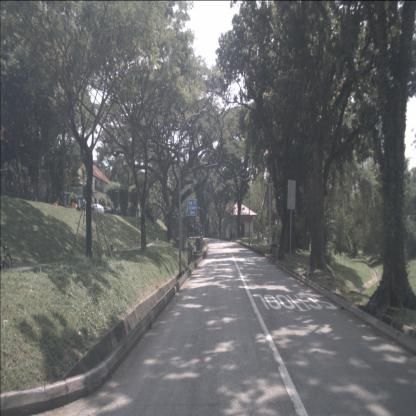vehicle-car: (85, 204, 104, 214), (97, 206, 113, 216)
